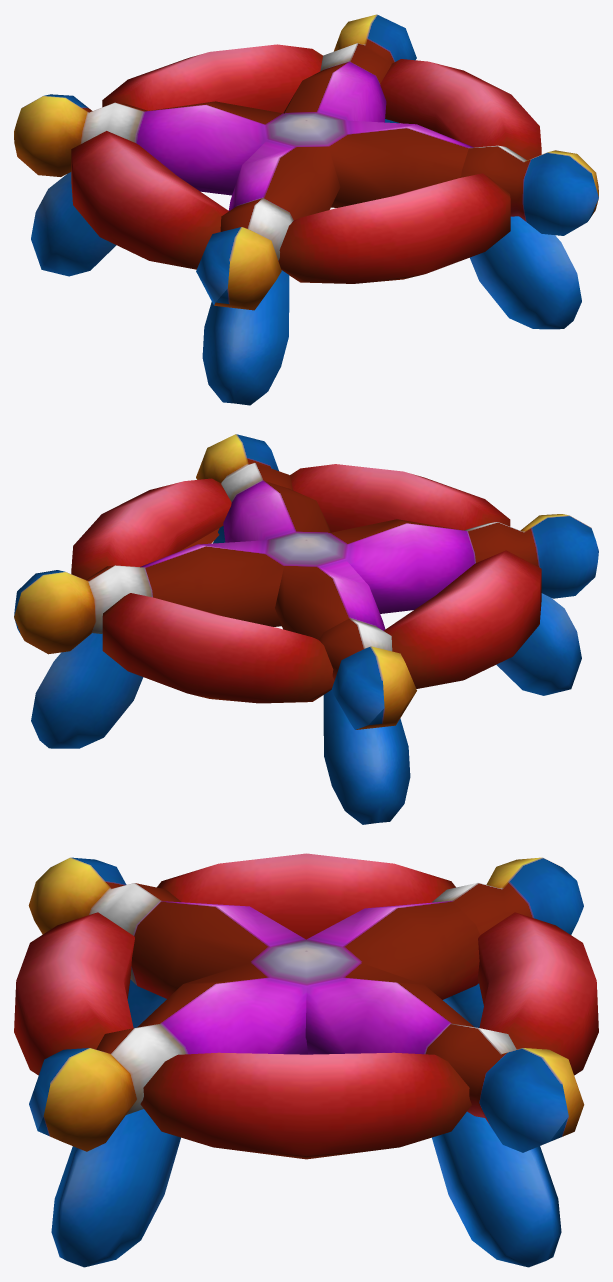
The model's file is int_bal_tableL.dae.
The picture shows the model from 3 angles, top to bottom: view 1: azimuth 30°, elevation 25°; view 2: azimuth 150°, elevation 25°; view 3: azimuth 270°, elevation 25°; orthographic projection. The views are drawn at different scales.
Parts seen in each view (by area): view 1: int_bal_tableL; view 2: int_bal_tableL; view 3: int_bal_tableL.
Part boxes in pixels (box(x1,y1,x2,y2)): int_bal_tableL: box(14, 14, 598, 405); int_bal_tableL: box(14, 434, 598, 824); int_bal_tableL: box(14, 853, 598, 1267).
Bounding box in the file's own units: 54.57 × 22.99 × 54.57.
1 material, 1 textured.
